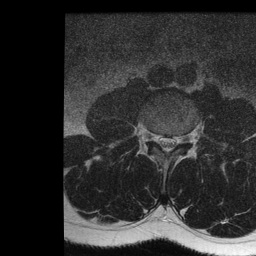CCS_normal: (163, 128, 170, 163)
LFS_normal: (178, 127, 187, 150)
LLS_normal: (170, 127, 178, 156)
RFS_normal: (149, 123, 156, 150)
RLS_normal: (156, 127, 163, 155)
